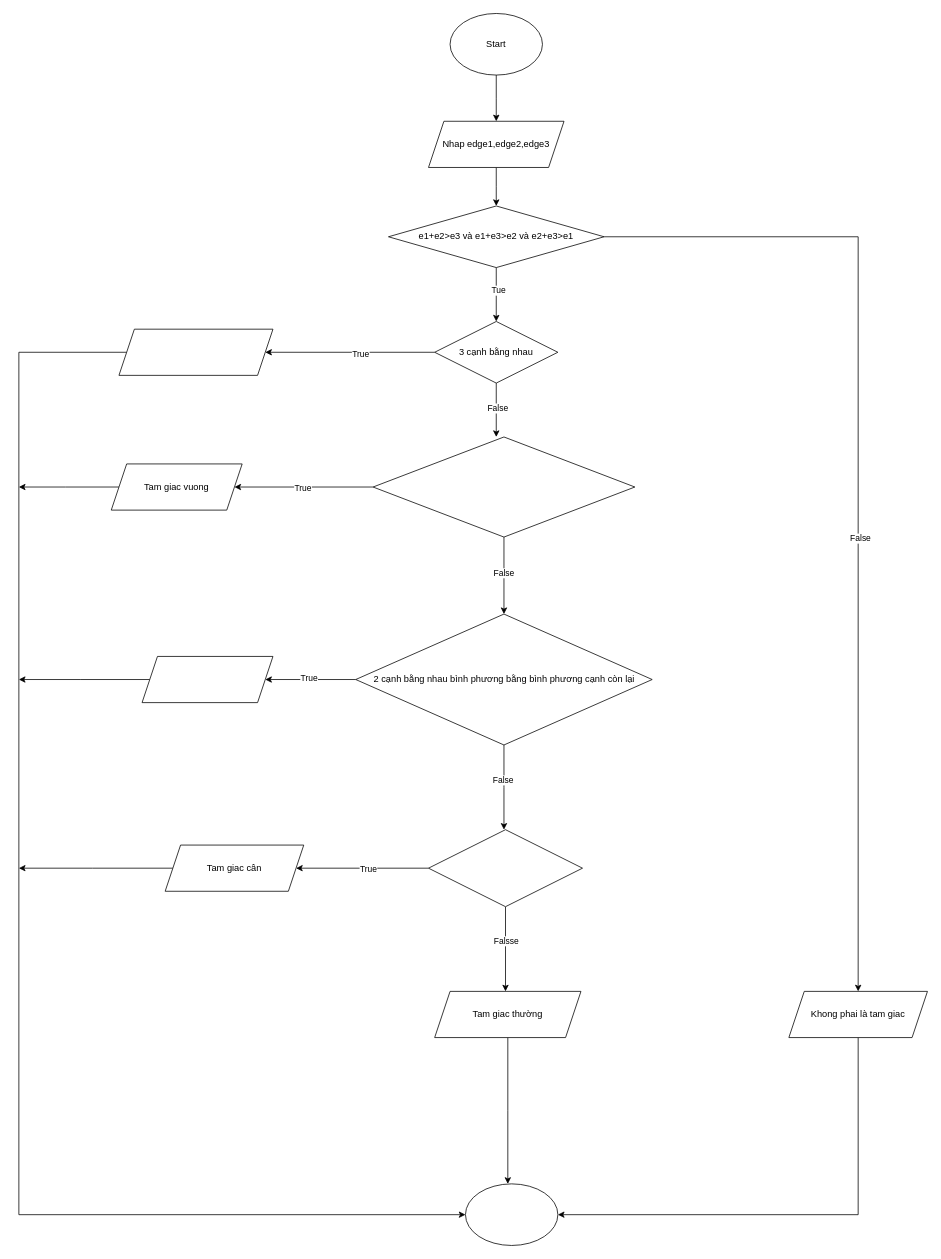
The diagram is 941 pixels wide and 1259 high, and some of its shapes have lost their labels. Here are the shapes that lost their labels. From the top down, the box of each, then its label:
(118, 328, 273, 375): Tam giac đều
(372, 436, 635, 537): bình phương 2 cạnh bằng bình phương cạnh còn lại
(141, 656, 273, 703): Tam giac vuong can
(428, 829, 583, 907): 2 cạnh bằng nhau
(465, 1183, 558, 1245): End
